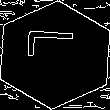L_E: (26, 38, 84, 72)
